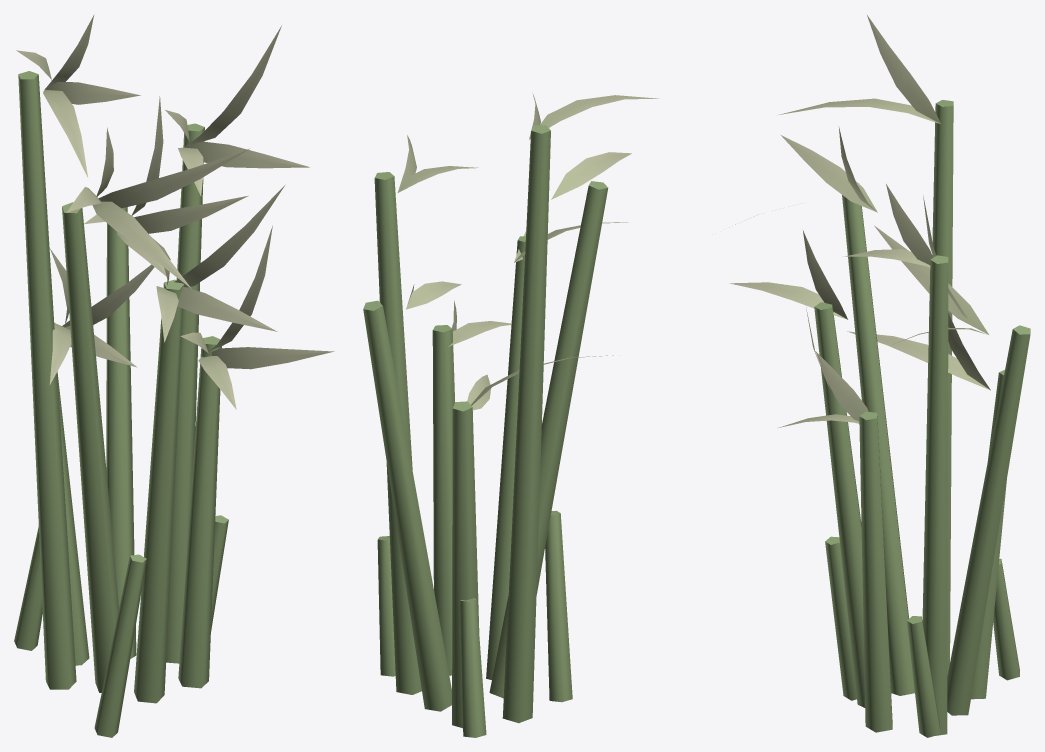
File: reeds.glb
3 views of the same model, side by side, from view 1: azimuth 30°, elevation 25°; view 2: azimuth 150°, elevation 25°; view 3: azimuth 270°, elevation 25° (orthographic). The views are drawn at different scales.
Parts seen in each view (by area): view 1: reeds; view 2: reeds; view 3: reeds.
Part boxes in pixels (x1,y1,x2,y2): reeds: (14,14,334,737); reeds: (363,93,659,737); reeds: (729,15,1030,737).
Size of the model in its own units: 0.3457 by 0.8559 by 0.3891.
